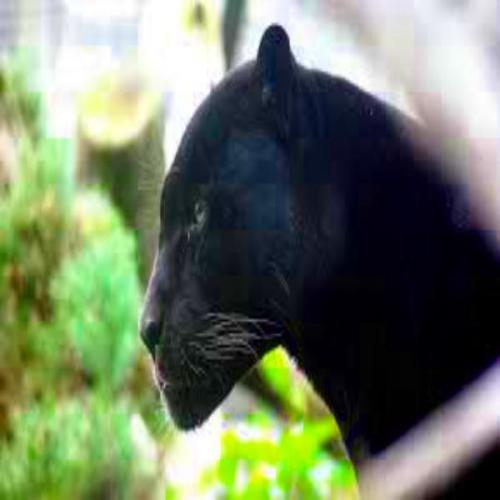panther-endangered: (136, 22, 500, 500)
